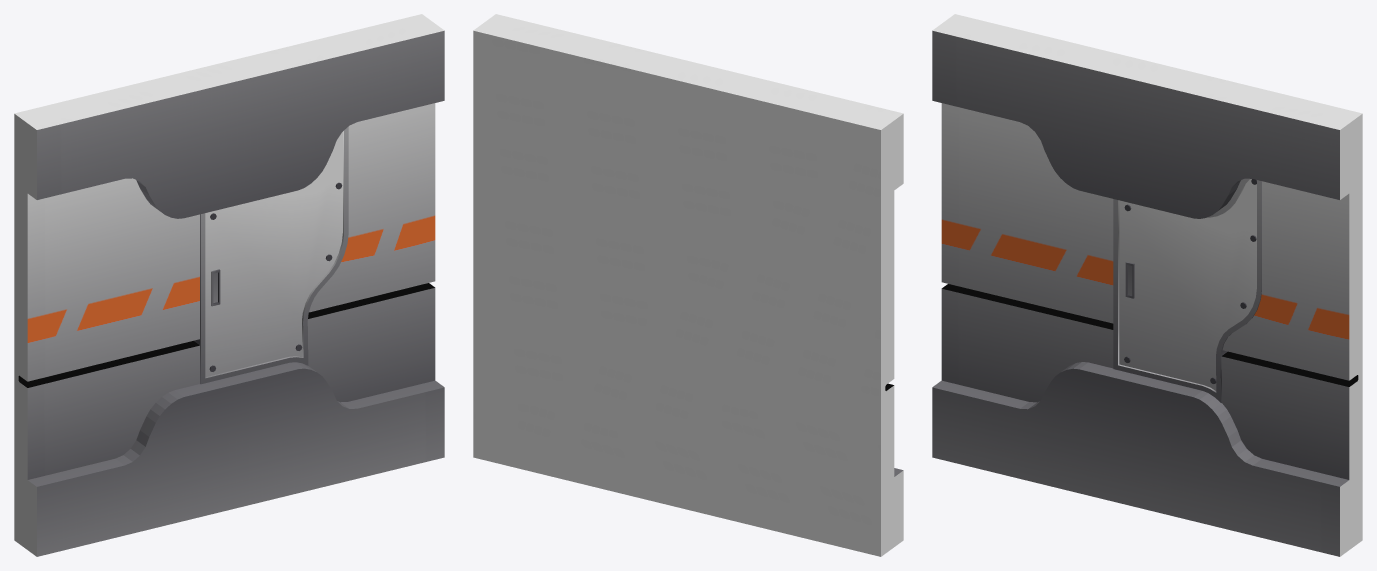
The model's file is 2048_Wall_ClosedPanel.fbx.
3 views of the same model, side by side, from view 1: azimuth 30°, elevation 25°; view 2: azimuth 150°, elevation 25°; view 3: azimuth 330°, elevation 25° (orthographic).
Parts seen in each view (by area): view 1: TEXTURED_WT_ClosedPanel; view 2: TEXTURED_WT_ClosedPanel; view 3: TEXTURED_WT_ClosedPanel.
Boxes of the visible parts, left/top/right/bottom form: TEXTURED_WT_ClosedPanel: left=14, top=14, right=444, bottom=556; TEXTURED_WT_ClosedPanel: left=473, top=14, right=903, bottom=556; TEXTURED_WT_ClosedPanel: left=932, top=14, right=1362, bottom=556.
Size of the model in its own units: 200 by 200 by 19.34.
Materials: 1 (1 with a texture image).
